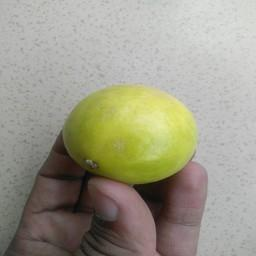Good_lime: (61, 77, 206, 186)
